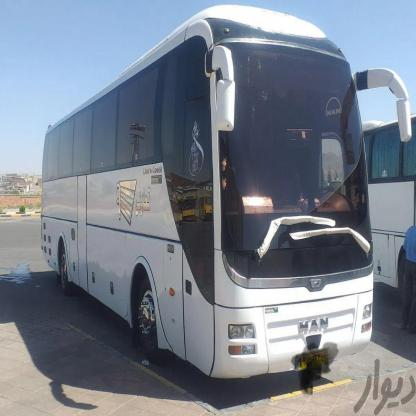Bus: (35, 35, 376, 388), (364, 122, 416, 304)
